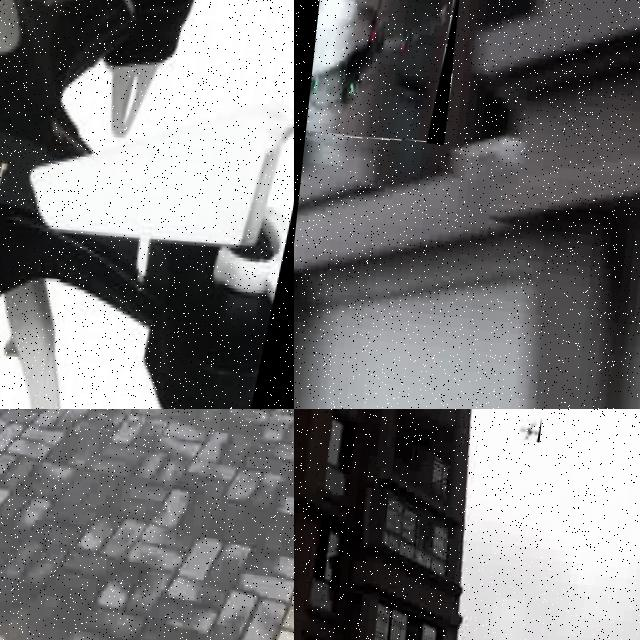drone: (0, 0, 294, 409), (305, 0, 461, 145), (518, 415, 541, 442)
